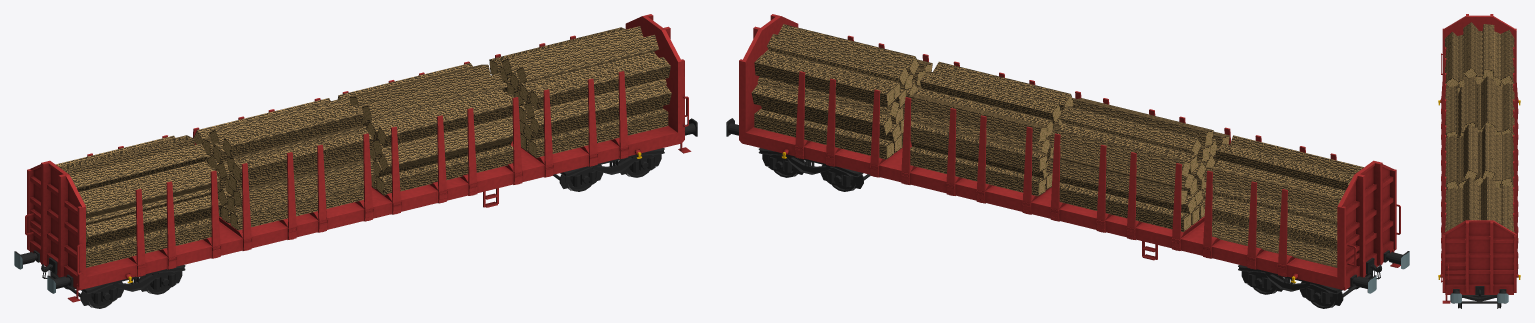
The model's file is roos-t_645.obj.
3 views of the same model, side by side, from view 1: azimuth 30°, elevation 25°; view 2: azimuth 150°, elevation 25°; view 3: azimuth 270°, elevation 25° (orthographic). The views are drawn at different scales.
Parts seen in each view (by area): view 1: FRAME, CARGO_FILL_99_Cube.081, CARGO_FILL_19_Cube.028, CARGO_FILL_69_Cube.085, CARGO_FILL_94_Cube.078, CARGO_FILL_50_Cube.032, CARGO_FILL_39_Cube.042, CARGO_FILL_10_Cube.020, CARGO_FILL_48_Cube.035, CARGO_FILL_25_Cube.031, CARGO_FILL_74_Cube.082, CARGO_FILL_30_Cube.052 (+25 smaller); view 2: FRAME, CARGO_FILL_23_Cube.029, CARGO_FILL_75_Cube.083, CARGO_FILL_14_Cube.023, CARGO_FILL_24_Cube.030, CARGO_FILL_100_Cube.080, CARGO_FILL_35_Cube.040, CARGO_FILL_49_Cube.033, CARGO_FILL_64_Cube.090, CARGO_FILL_73_Cube.084, CARGO_FILL_5_Cube, CARGO_FILL_55.001_Cube.106 (+23 smaller); view 3: FRAME, CARGO_FILL_50_Cube.032, CARGO_FILL_74_Cube.082, CARGO_FILL_75_Cube.083, CARGO_FILL_44_Cube.034, CARGO_FILL_100_Cube.080, CARGO_FILL_49_Cube.033, CARGO_FILL_99_Cube.081, CARGO_FILL_73_Cube.084, CARGO_FILL_69_Cube.085, CARGO_FILL_48_Cube.035, CARGO_FILL_25_Cube.031 (+19 smaller).
Boxes of the visible parts, bbox=[...] form: FRAME: bbox=[14, 14, 697, 302]; CARGO_FILL_99_Cube.081: bbox=[222, 105, 363, 157]; CARGO_FILL_19_Cube.028: bbox=[529, 57, 670, 109]; CARGO_FILL_69_Cube.085: bbox=[377, 94, 513, 147]; CARGO_FILL_94_Cube.078: bbox=[232, 129, 373, 182]; CARGO_FILL_50_Cube.032: bbox=[70, 143, 207, 191]; CARGO_FILL_39_Cube.042: bbox=[86, 195, 220, 246]; CARGO_FILL_10_Cube.020: bbox=[530, 85, 671, 136]; CARGO_FILL_48_Cube.035: bbox=[83, 168, 219, 218]; CARGO_FILL_25_Cube.031: bbox=[516, 34, 658, 83]; CARGO_FILL_74_Cube.082: bbox=[362, 73, 503, 121]; CARGO_FILL_30_Cube.052: bbox=[86, 218, 211, 267]; FRAME: bbox=[726, 14, 1409, 293]; CARGO_FILL_23_Cube.029: bbox=[754, 55, 894, 107]; CARGO_FILL_75_Cube.083: bbox=[920, 71, 1061, 123]; CARGO_FILL_14_Cube.023: bbox=[751, 83, 892, 135]; CARGO_FILL_24_Cube.030: bbox=[767, 34, 909, 86]; CARGO_FILL_100_Cube.080: bbox=[1059, 105, 1201, 154]; CARGO_FILL_35_Cube.040: bbox=[1203, 194, 1337, 245]; CARGO_FILL_49_Cube.033: bbox=[1215, 143, 1353, 190]; CARGO_FILL_64_Cube.090: bbox=[910, 122, 1047, 172]; CARGO_FILL_73_Cube.084: bbox=[908, 94, 1047, 142]; CARGO_FILL_5_Cube: bbox=[754, 108, 893, 159]; CARGO_FILL_55.001_Cube.106: bbox=[910, 146, 1046, 196]; FRAME: bbox=[1438, 14, 1520, 303]; CARGO_FILL_50_Cube.032: bbox=[1463, 22, 1478, 77]; CARGO_FILL_74_Cube.082: bbox=[1463, 124, 1477, 179]; CARGO_FILL_75_Cube.083: bbox=[1481, 124, 1495, 179]; CARGO_FILL_44_Cube.034: bbox=[1500, 30, 1514, 85]; CARGO_FILL_100_Cube.080: bbox=[1481, 76, 1495, 129]; CARGO_FILL_49_Cube.033: bbox=[1482, 24, 1494, 79]; CARGO_FILL_99_Cube.081: bbox=[1464, 76, 1477, 128]; CARGO_FILL_73_Cube.084: bbox=[1501, 132, 1513, 186]; CARGO_FILL_69_Cube.085: bbox=[1445, 135, 1459, 189]; CARGO_FILL_48_Cube.035: bbox=[1445, 32, 1458, 86]; CARGO_FILL_25_Cube.031: bbox=[1463, 177, 1478, 221].
Size of the model in its own units: 20.03 by 4.08 by 3.14.
Materials: 7 (7 with a texture image).
